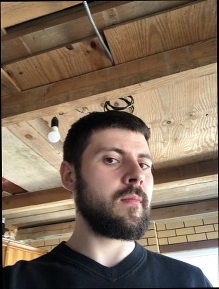without_mask: (86, 144, 154, 240)
